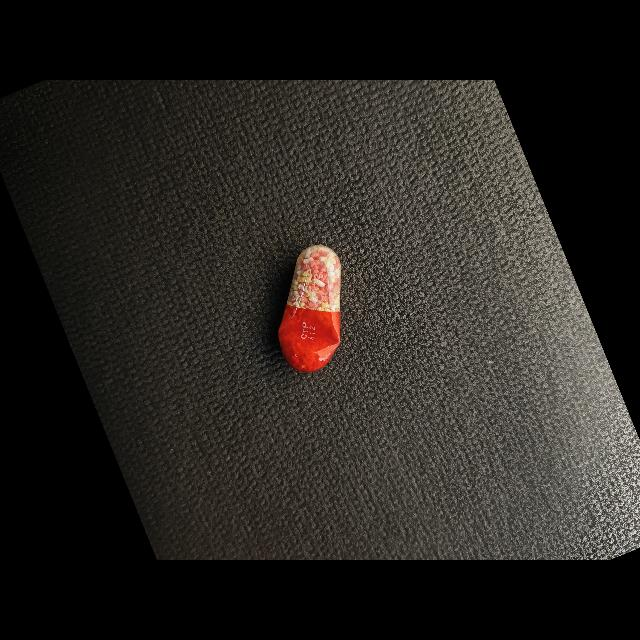Defective Capsule: (278, 245, 341, 372)
